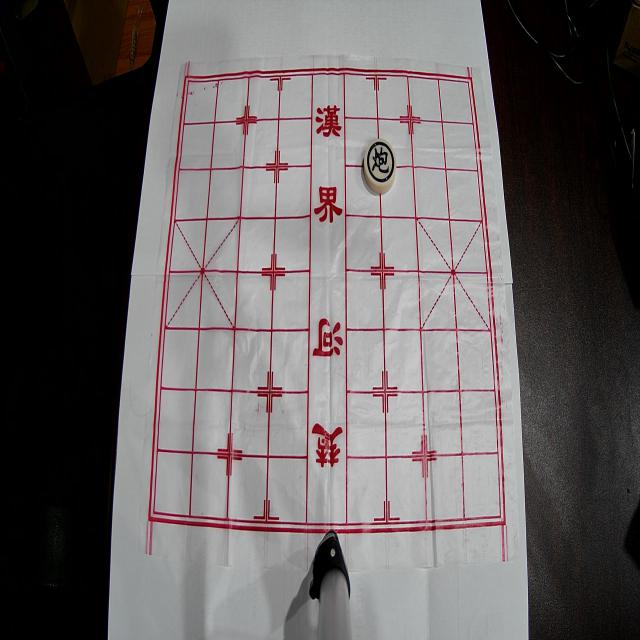black-cannon: (364, 139, 396, 193)
